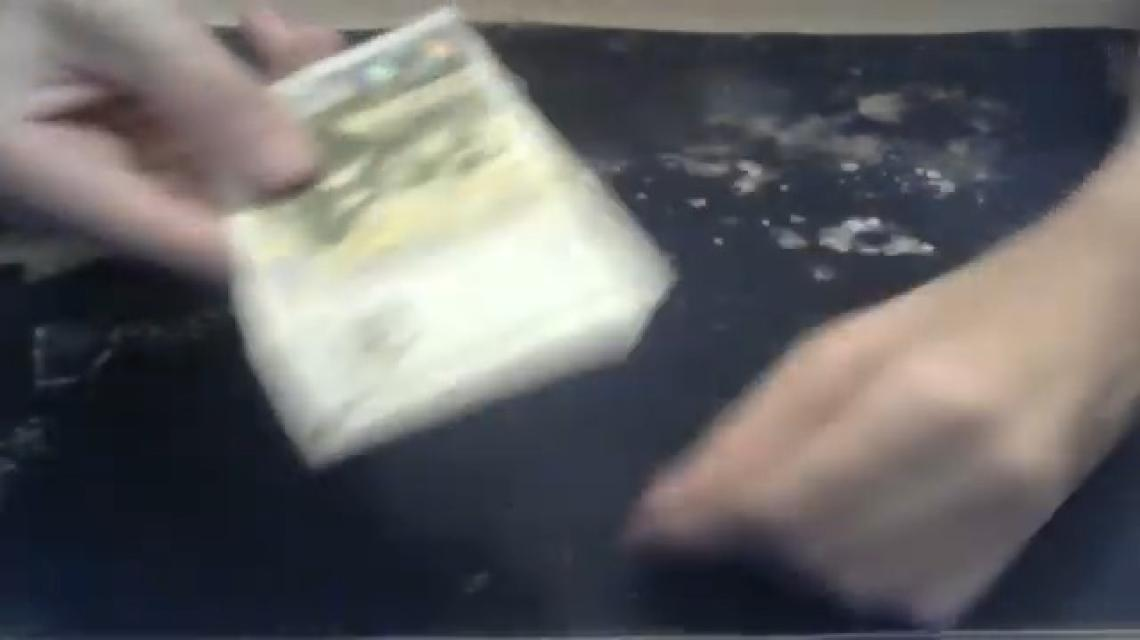10leva: (219, 7, 679, 473)
